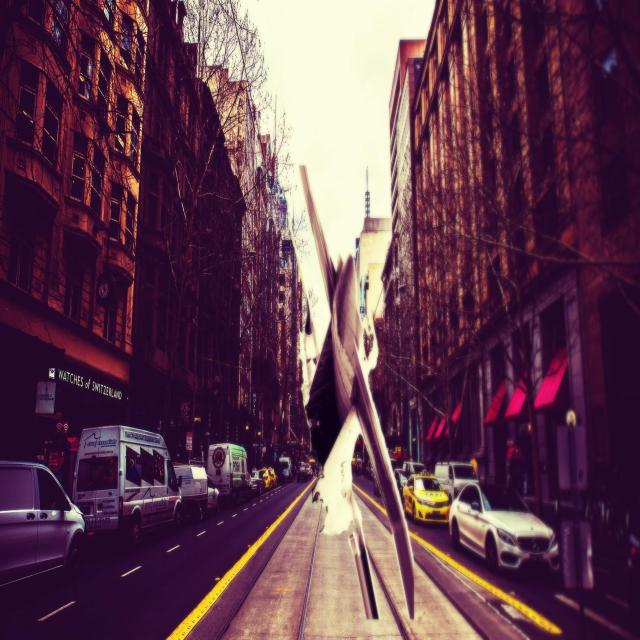airplane: (289, 164, 416, 622)
